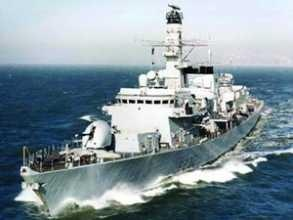warship: (23, 7, 267, 206)
